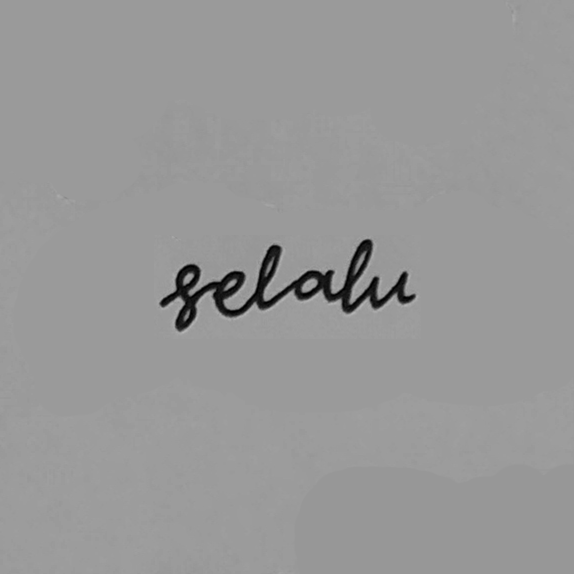a: (296, 254, 386, 329)
e: (135, 260, 212, 362)
l: (391, 197, 463, 352), (218, 206, 281, 343)
s: (60, 247, 119, 387)
u: (447, 257, 547, 343)
